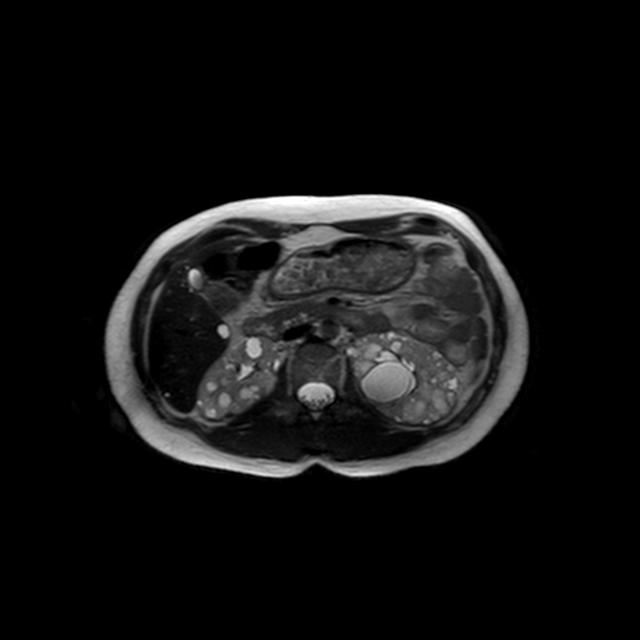sag: (195, 334, 294, 425)
sol: (342, 329, 466, 426)
